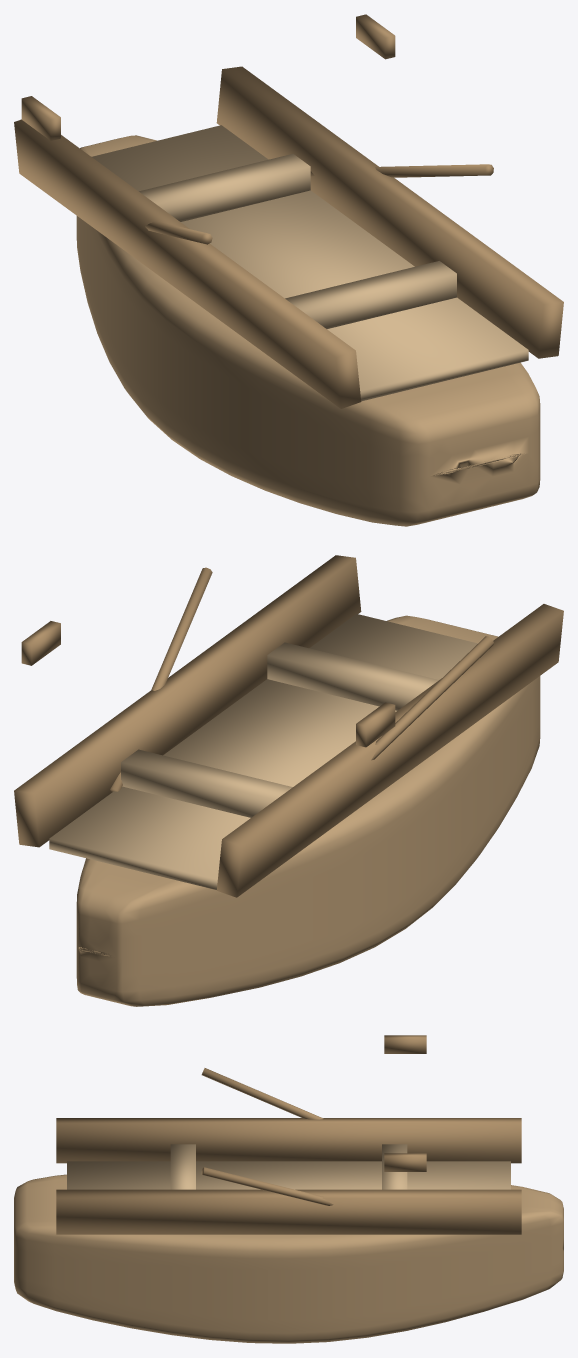
The model's file is ship_rowboat.glb.
The picture shows the model from 3 angles, top to bottom: view 1: azimuth 30°, elevation 25°; view 2: azimuth 150°, elevation 25°; view 3: azimuth 270°, elevation 25°; orthographic projection. The views are drawn at different scales.
Parts seen in each view (by area): view 1: ship_rowboat; view 2: ship_rowboat; view 3: ship_rowboat.
Boxes of the visible parts, left/top/right/bottom form: ship_rowboat: left=14, top=14, right=563, bottom=526; ship_rowboat: left=14, top=555, right=563, bottom=1006; ship_rowboat: left=14, top=1035, right=563, bottom=1343.
Size of the model in its own units: 1.36 by 1.09 by 2.6.
